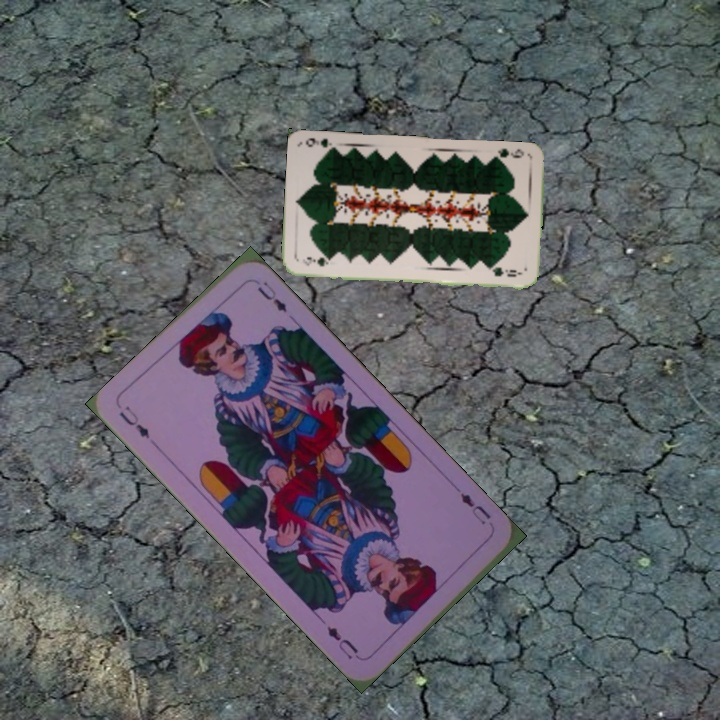EU: (114, 401, 153, 441), (456, 488, 494, 528)
G9: (490, 144, 526, 163), (299, 254, 333, 269)
